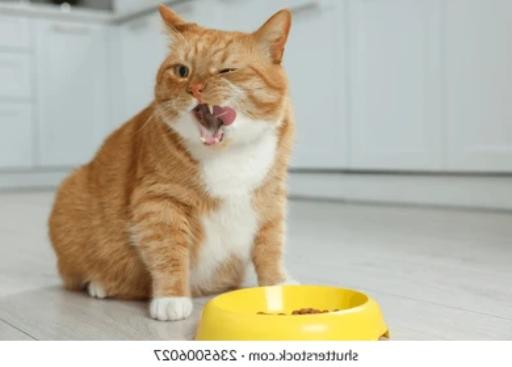cat_eating: (50, 5, 387, 340)
